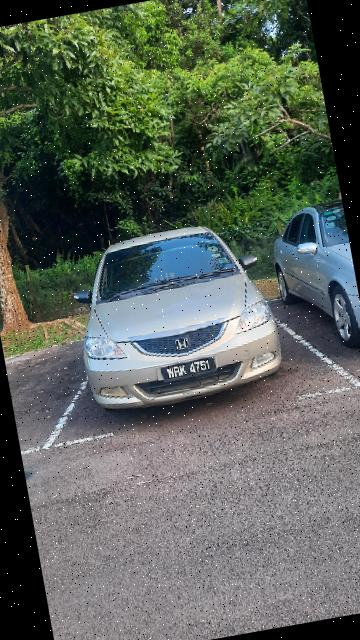License_Plate: (157, 355, 223, 388)
car: (56, 209, 296, 426)
